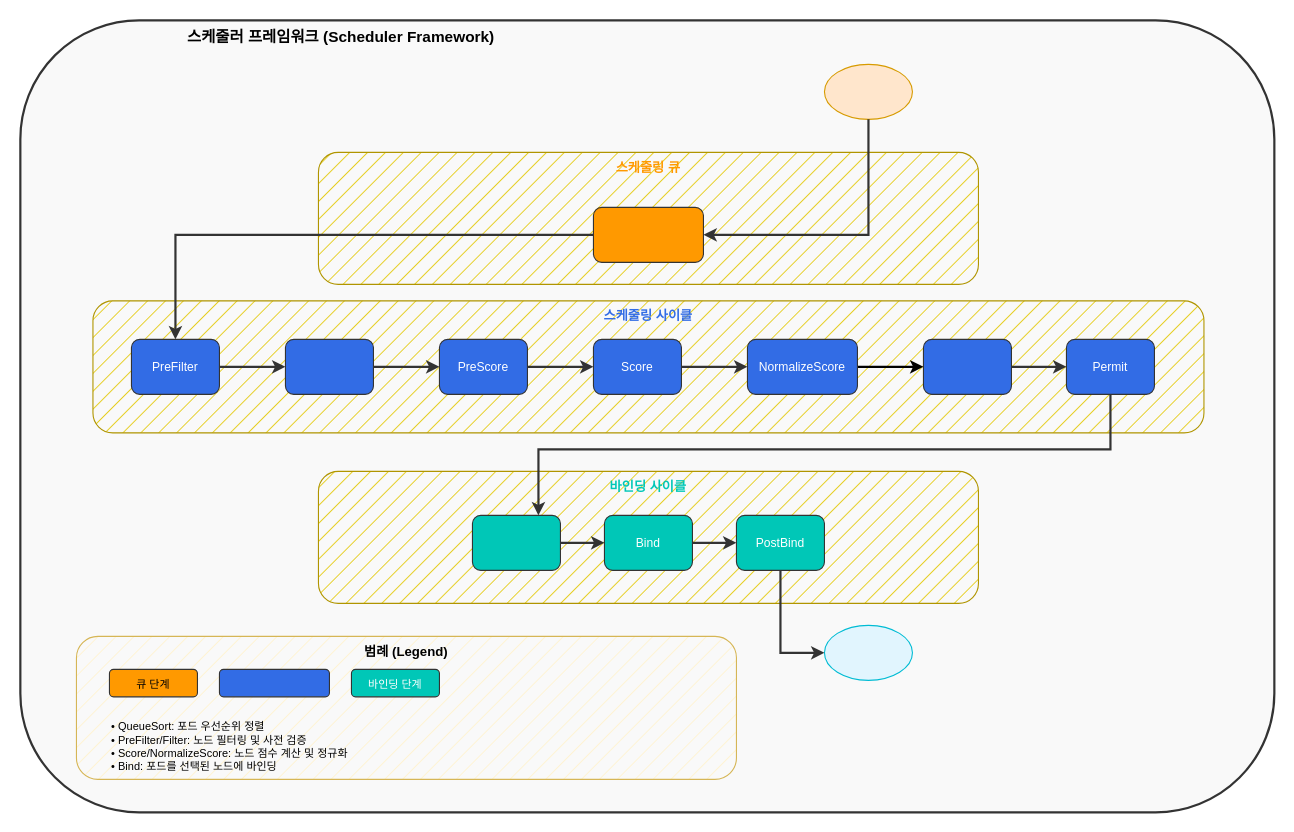
Image size: 1294x832. Some labels were removed from this diagram. Here are the shapes that lost their labels. From the top down, the centre of each, then its label:
[867,91]: 포드 (Pod)
[647,234]: QueueSort
[328,366]: Filter
[966,366]: Reserve
[515,542]: PreBind
[867,652]: 노드 (Node)
[273,682]: 스케줄링 단계
